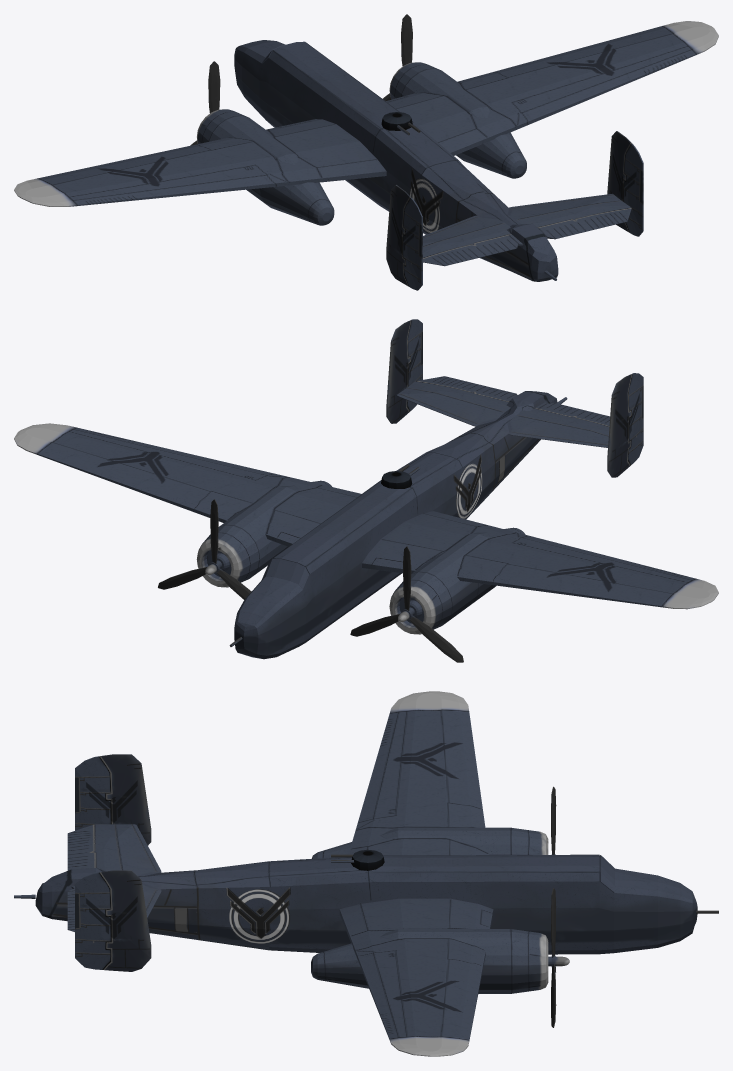
The model's file is NemBOMfn.fbx.
3 views of the same model, one above another, from view 1: azimuth 30°, elevation 25°; view 2: azimuth 150°, elevation 25°; view 3: azimuth 270°, elevation 25° (orthographic). The views are drawn at different scales.
Visible parts, largest first — view 1: Cube, Cylinder.001, Cylinder.010, Cylinder.008; view 2: Cube, Cylinder.010, Cylinder.001, Cube.014, Cylinder.008; view 3: Cube, Cylinder.001, Cylinder.008.
Part boxes in pixels (bbox=[...]): Cube: bbox=[14, 21, 718, 290]; Cylinder.001: bbox=[383, 14, 412, 100]; Cylinder.010: bbox=[190, 61, 220, 145]; Cylinder.008: bbox=[381, 112, 420, 135]; Cube: bbox=[14, 319, 718, 659]; Cylinder.010: bbox=[350, 546, 463, 662]; Cylinder.001: bbox=[158, 499, 251, 599]; Cube.014: bbox=[262, 558, 309, 589]; Cylinder.008: bbox=[381, 464, 419, 488]; Cube: bbox=[14, 691, 718, 1056]; Cylinder.001: bbox=[548, 888, 569, 1027]; Cylinder.008: bbox=[331, 849, 384, 870].
Size of the model in its own units: 542 by 94.47 by 443.
